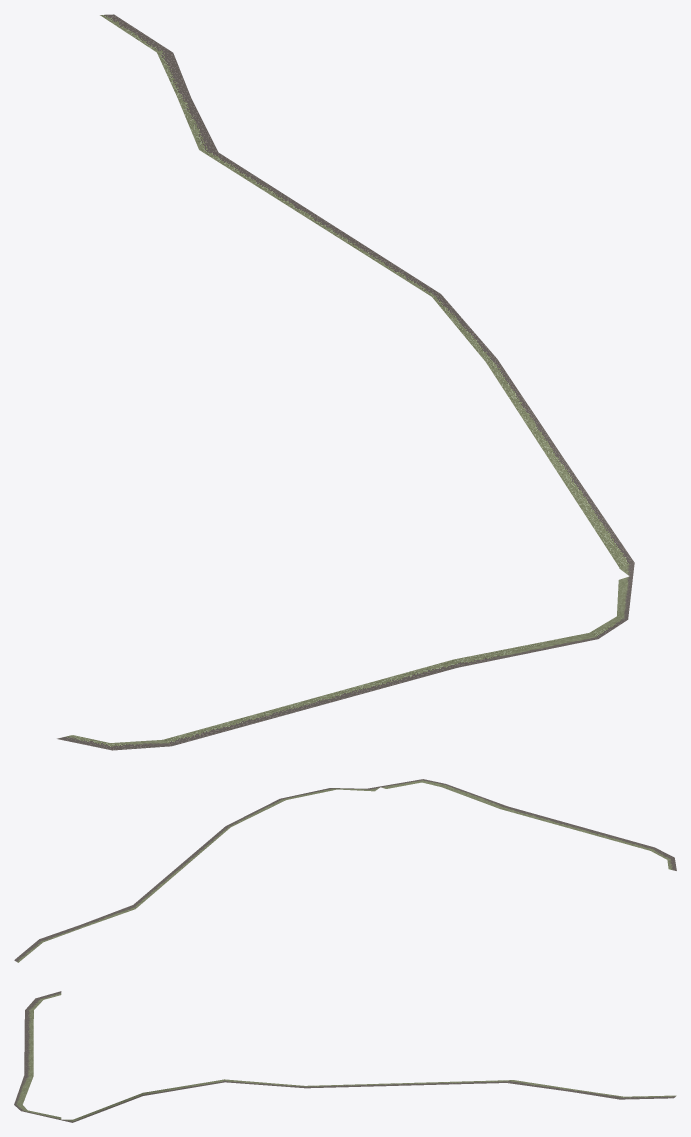
Rendered from kd_stage_135ded_4_131_exterior_piece_2.glb.
3 views of the same model, one above another, from view 1: azimuth 30°, elevation 25°; view 2: azimuth 150°, elevation 25°; view 3: azimuth 270°, elevation 25° (orthographic). The views are drawn at different scales.
Parts seen in each view (by area): view 1: kd_stage_135ded_4_131_exterior_piece_2; view 2: kd_stage_135ded_4_131_exterior_piece_2; view 3: kd_stage_135ded_4_131_exterior_piece_2.
Boxes of the visible parts, left/top/right/bottom form: kd_stage_135ded_4_131_exterior_piece_2: left=57, top=14, right=634, bottom=750; kd_stage_135ded_4_131_exterior_piece_2: left=14, top=779, right=676, bottom=962; kd_stage_135ded_4_131_exterior_piece_2: left=14, top=991, right=676, bottom=1122.
Bounding box in the file's own units: 2.94 × 0.4681 × 5.
1 material, 1 textured.
